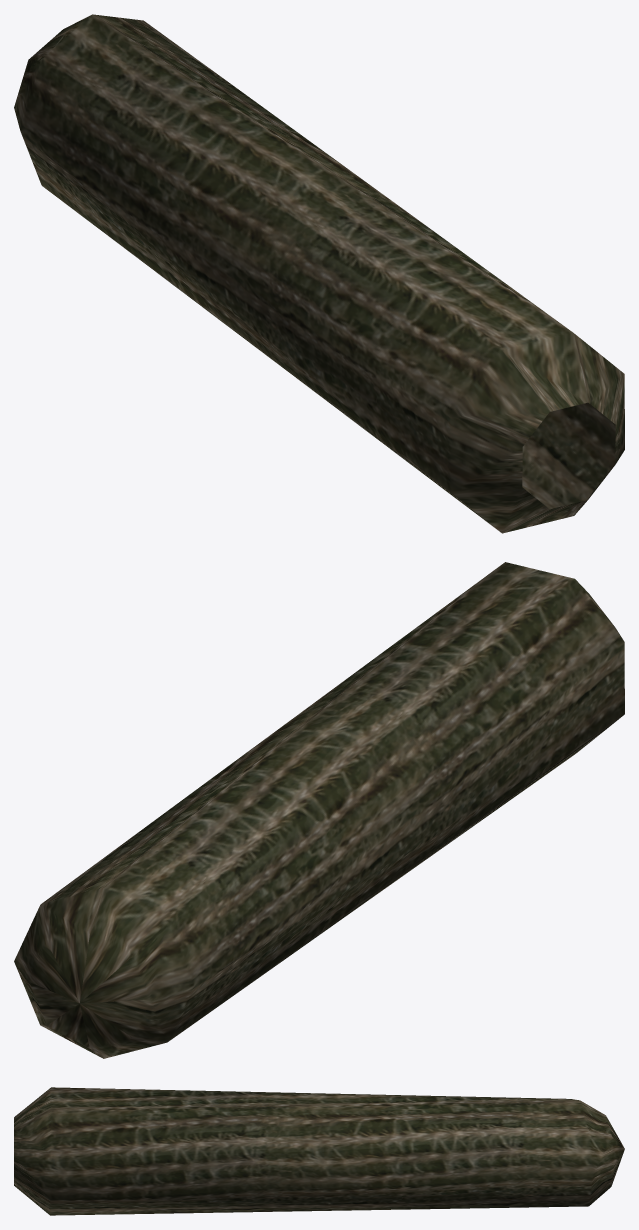
File: MEP_Cactus_h_05.fbx
3 renders of one model, top to bottom at view 1: azimuth 30°, elevation 25°; view 2: azimuth 150°, elevation 25°; view 3: azimuth 270°, elevation 25°, orthographic. The views are drawn at different scales.
Visible parts, largest first — view 1: MEP_Cactus_h_05; view 2: MEP_Cactus_h_05; view 3: MEP_Cactus_h_05.
Part boxes in pixels (x1,y1,x2,y2): MEP_Cactus_h_05: (14, 14, 624, 533); MEP_Cactus_h_05: (14, 562, 624, 1058); MEP_Cactus_h_05: (14, 1087, 624, 1215).
Bounding box in the file's own units: 0.4014 × 0.4014 × 2.07.
1 material, 1 textured.
